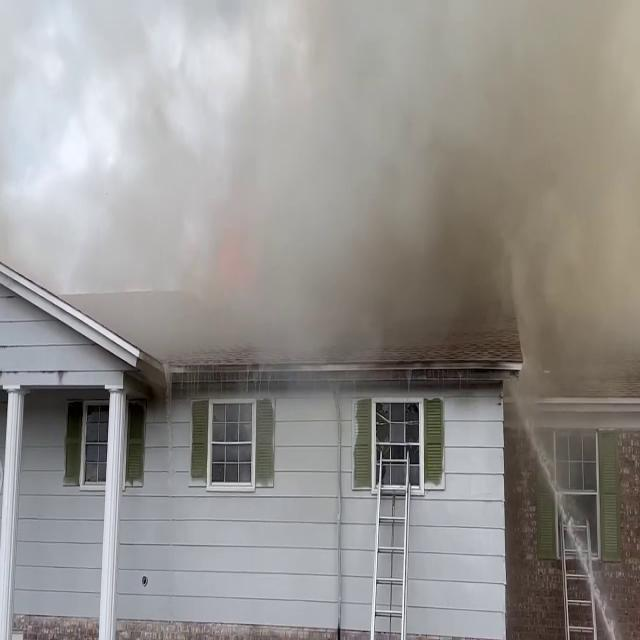Smoke: (30, 2, 638, 360)
